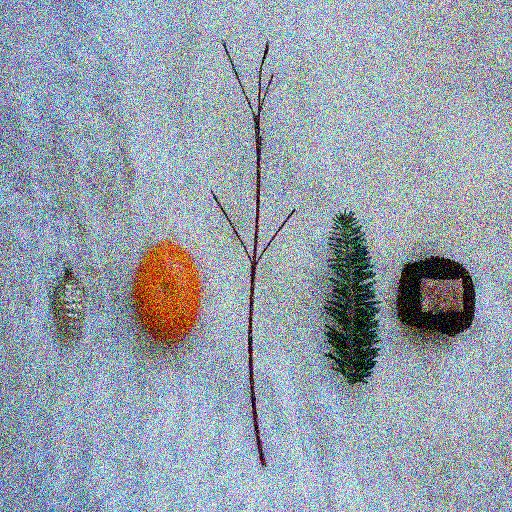fruit: (65, 155, 209, 484)
